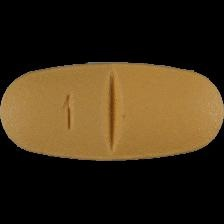0615-6594: (0, 0, 224, 224)
